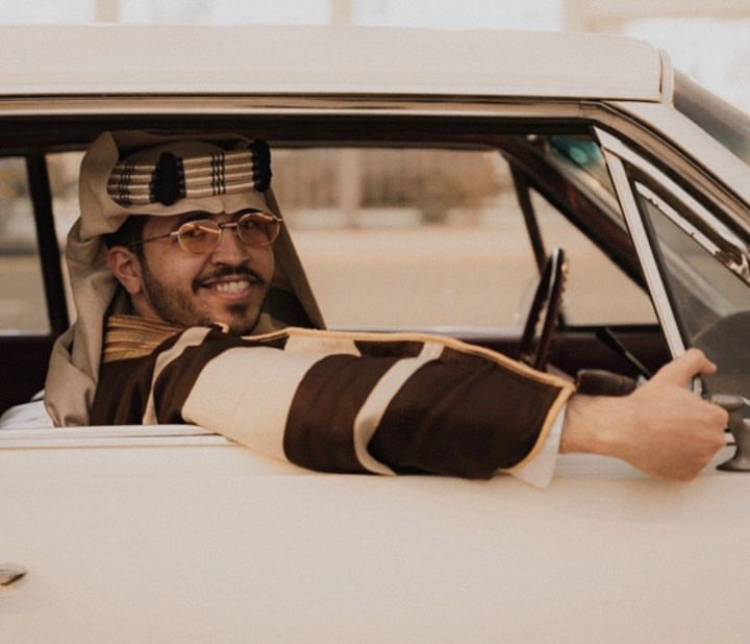Saudi_Founding_Day: (44, 125, 734, 491)
